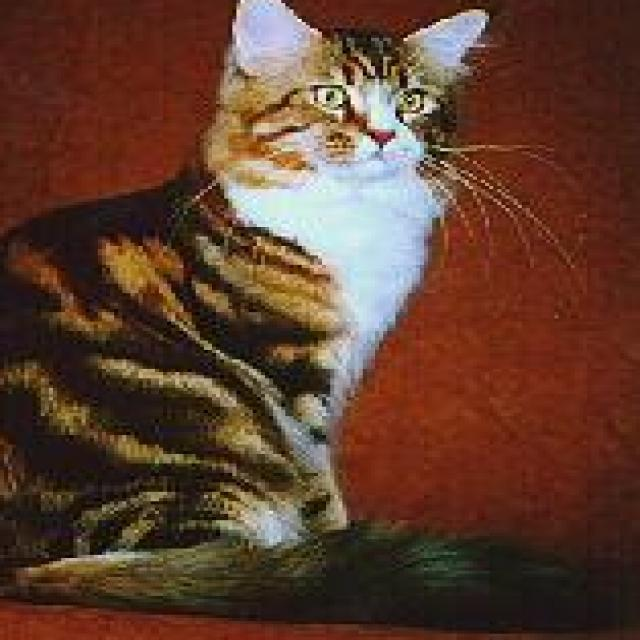Maine Coon: (0, 0, 620, 634)
